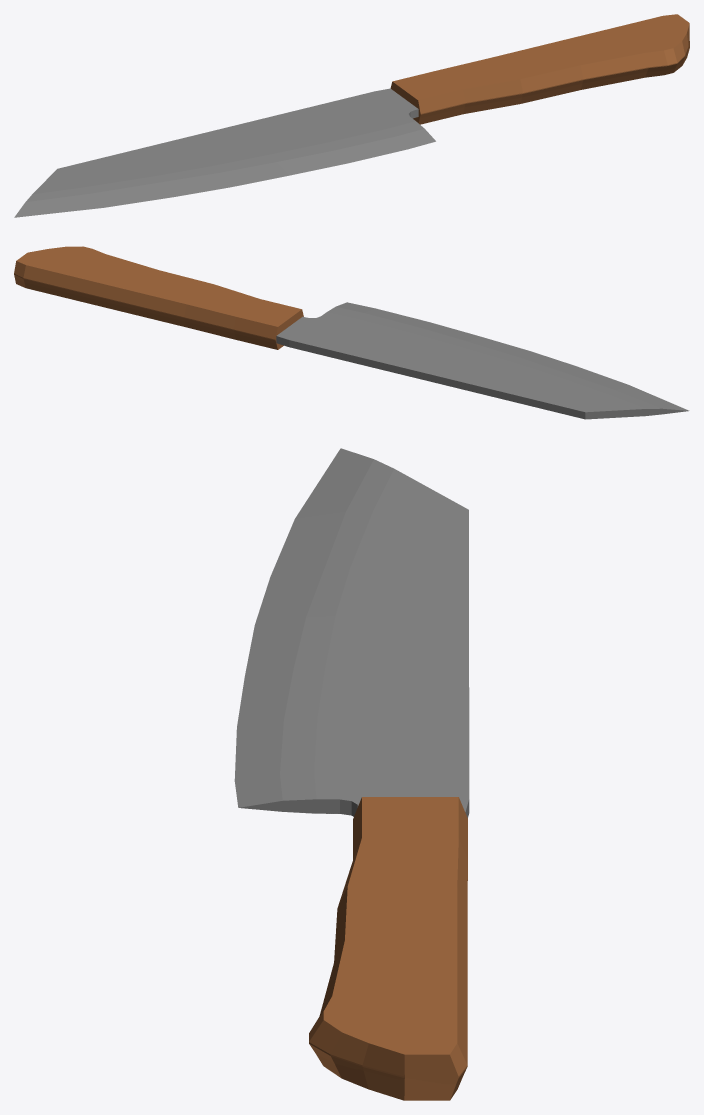
File: kitchenKnife2.fbx
3 views of the same model, one above another, from view 1: azimuth 30°, elevation 25°; view 2: azimuth 150°, elevation 25°; view 3: azimuth 270°, elevation 25° (orthographic). The views are drawn at different scales.
Parts seen in each view (by area): view 1: blade, handle; view 2: blade, handle; view 3: blade, handle.
Part boxes in pixels (box(x1,y1,x2,y2)): blade: box(14, 88, 435, 217); handle: box(390, 14, 689, 124); blade: box(276, 302, 689, 419); handle: box(14, 246, 303, 349); blade: box(234, 448, 469, 817); handle: box(309, 797, 467, 1100).
Size of the model in its own units: 503 by 17.16 by 78.98.
